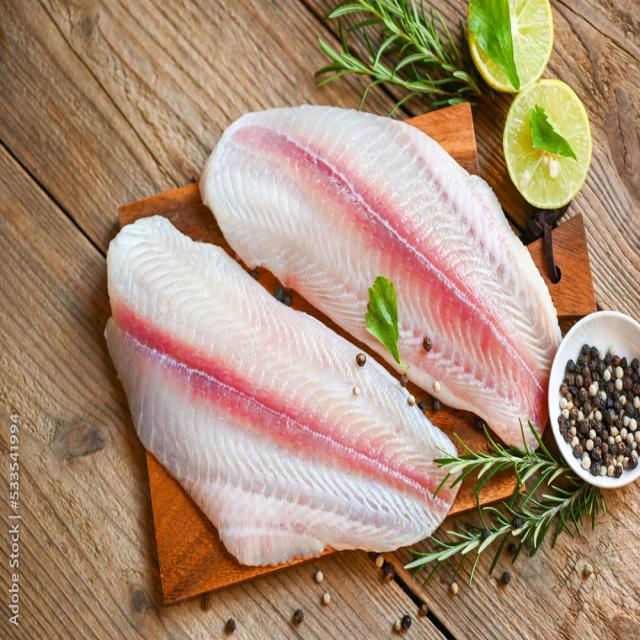Black pepper: (559, 350, 610, 407)
Catfish: (100, 204, 462, 582), (192, 102, 557, 452)
Coriander: (458, 0, 524, 94), (359, 276, 412, 368), (524, 94, 581, 165)
Rosemary: (395, 412, 606, 580), (310, 0, 479, 105)
lemon: (510, 83, 588, 209), (469, 0, 552, 97)
